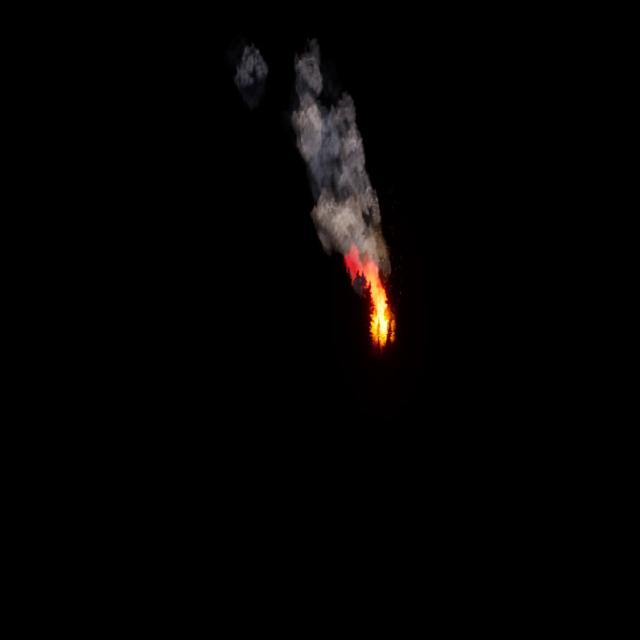fire: (348, 253, 398, 349)
smoke: (292, 30, 387, 268)
